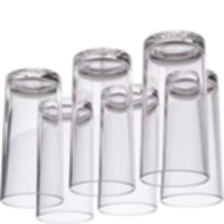glass: (134, 28, 224, 191), (63, 44, 145, 204), (95, 80, 168, 216), (0, 66, 68, 212), (159, 68, 224, 213), (35, 94, 103, 224)
